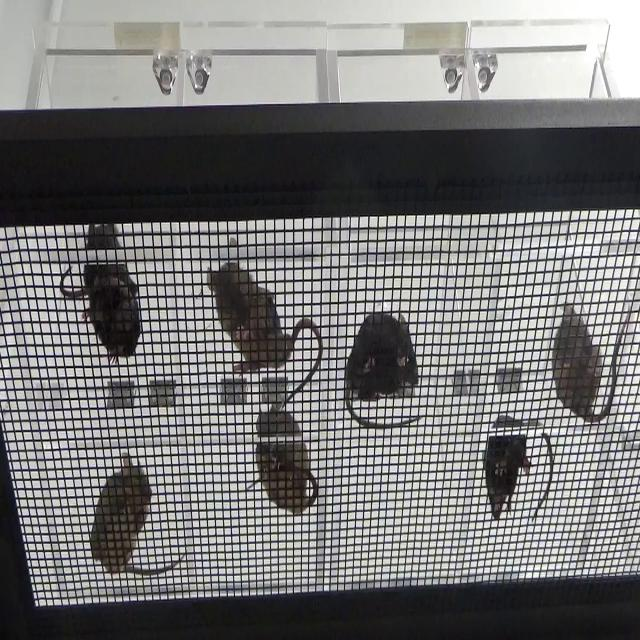scratch: (549, 293, 640, 427)
